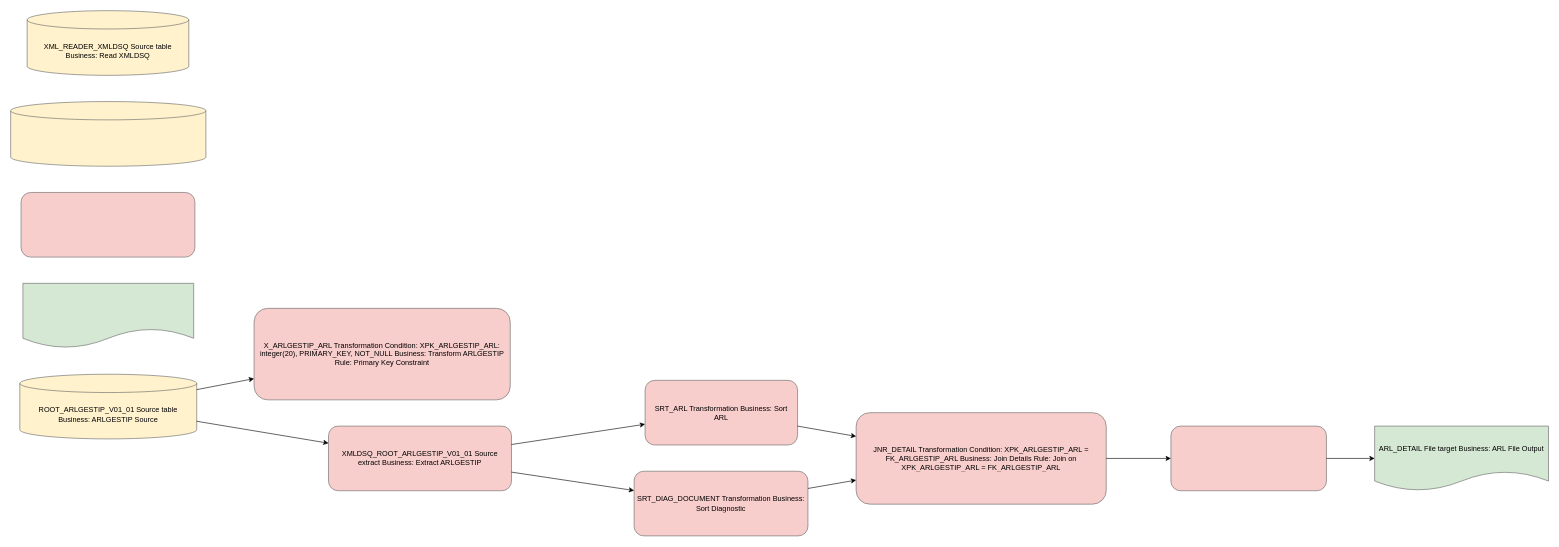
Image size: 1559x547. Some labels were removed from this diagram. Each missing label, with the centre of its shape:
EXP_TRIM Transformation Business: Trim Data: the point at 1248,458
FILE_WRITER_ARL_DETAIL File target Business: Write ARL File: the point at 108,315
s_arl_control_det Transformation Business: Control Details: the point at 107,224
XML_READER_ROOT_ARLGESTIP_V01_01 Source table Business: Read ARLGESTIP XML: the point at 108,133
